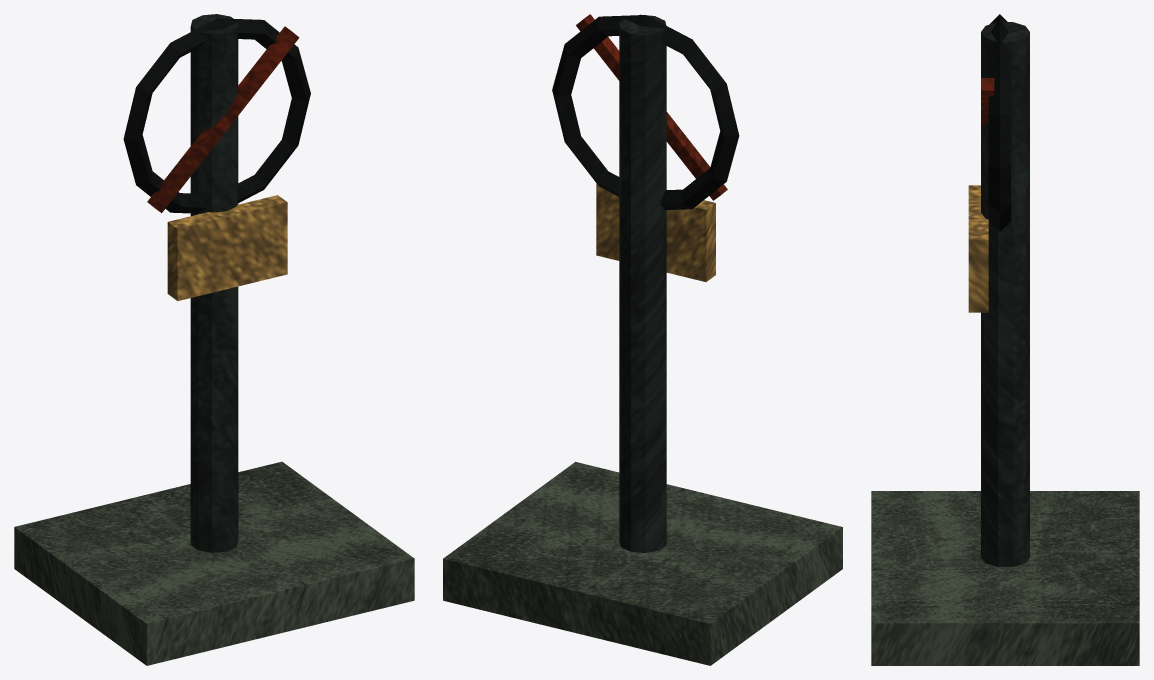
Rendered from dead-band-yard-null-post.glb.
3 views of the same model, side by side, from view 1: azimuth 30°, elevation 25°; view 2: azimuth 150°, elevation 25°; view 3: azimuth 270°, elevation 25° (orthographic).
Parts seen in each view (by area): view 1: dead-band-yard-null-post; view 2: dead-band-yard-null-post; view 3: dead-band-yard-null-post.
Part boxes in pixels (x1,y1,x2,y2): dead-band-yard-null-post: (14,14,414,665); dead-band-yard-null-post: (443,14,842,665); dead-band-yard-null-post: (871,14,1139,665).
Size of the model in its own units: 2.8 by 5.68 by 2.4.
1 material, 1 textured.
